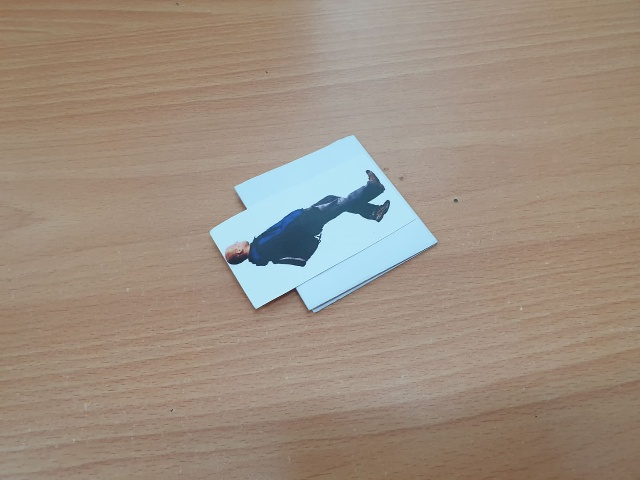Person: (225, 172, 392, 269)
